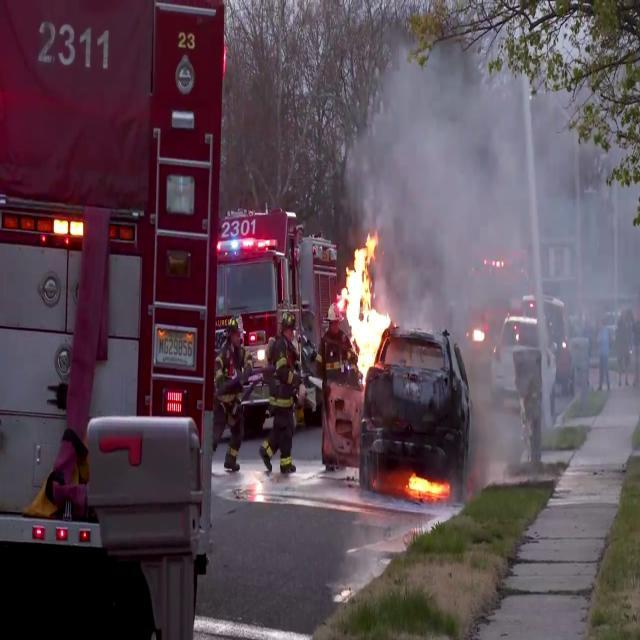Fire: (338, 225, 387, 379), (0, 190, 86, 243), (402, 468, 450, 502)
Smoke: (350, 17, 636, 328)
